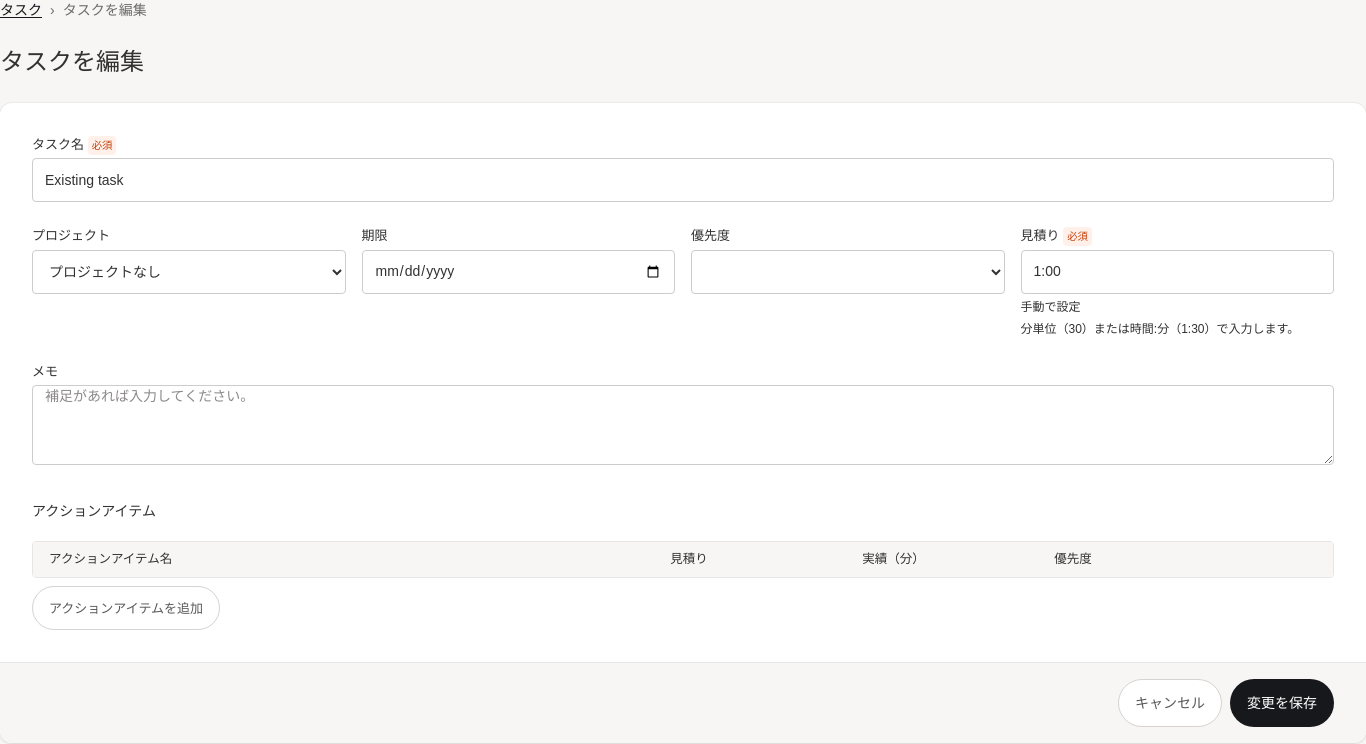
Scenario: reloads latest edit values and clears save feedback
Replace the text in the field labelled "タスク名 必須" with "Local draft". click: (683, 180)
box: top-left (32, 158), bottom-right (1334, 202)
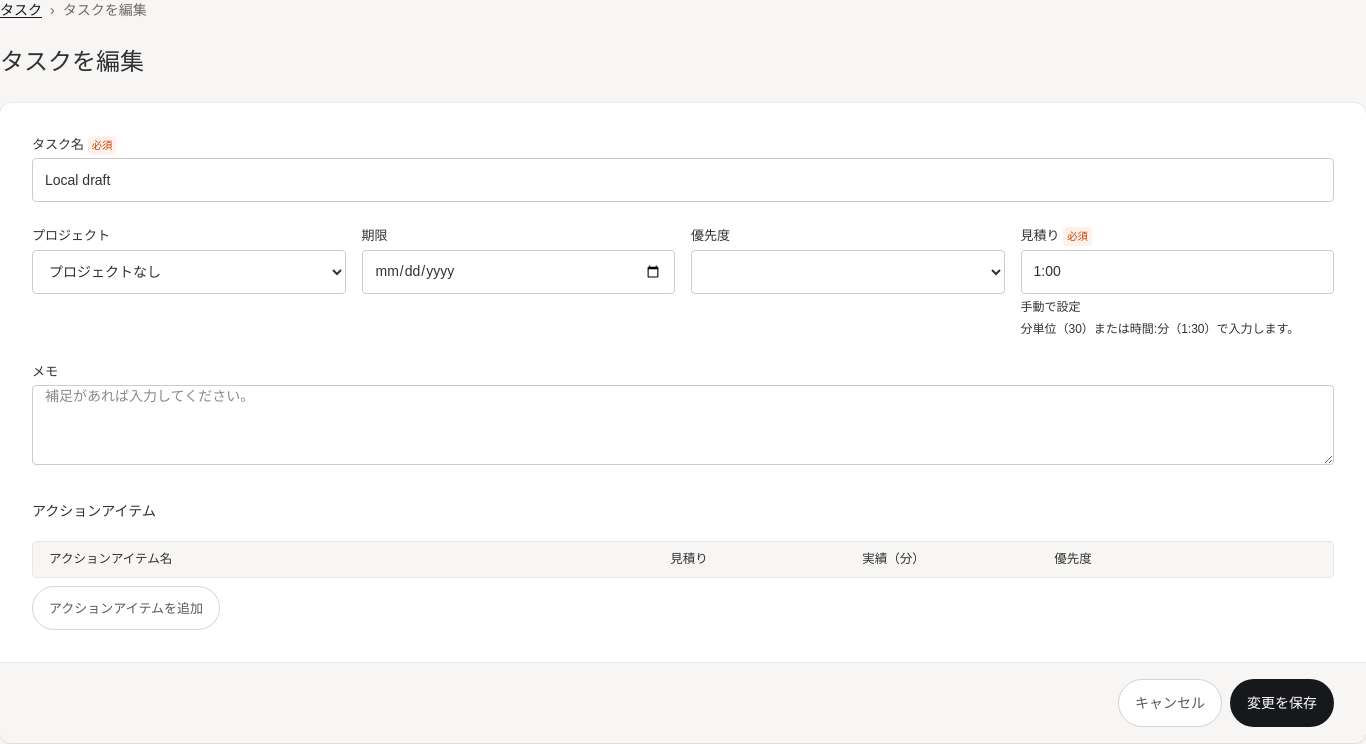
Click the button "変更を保存". click: (1282, 703)
box: top-left (1230, 679), bottom-right (1334, 727)
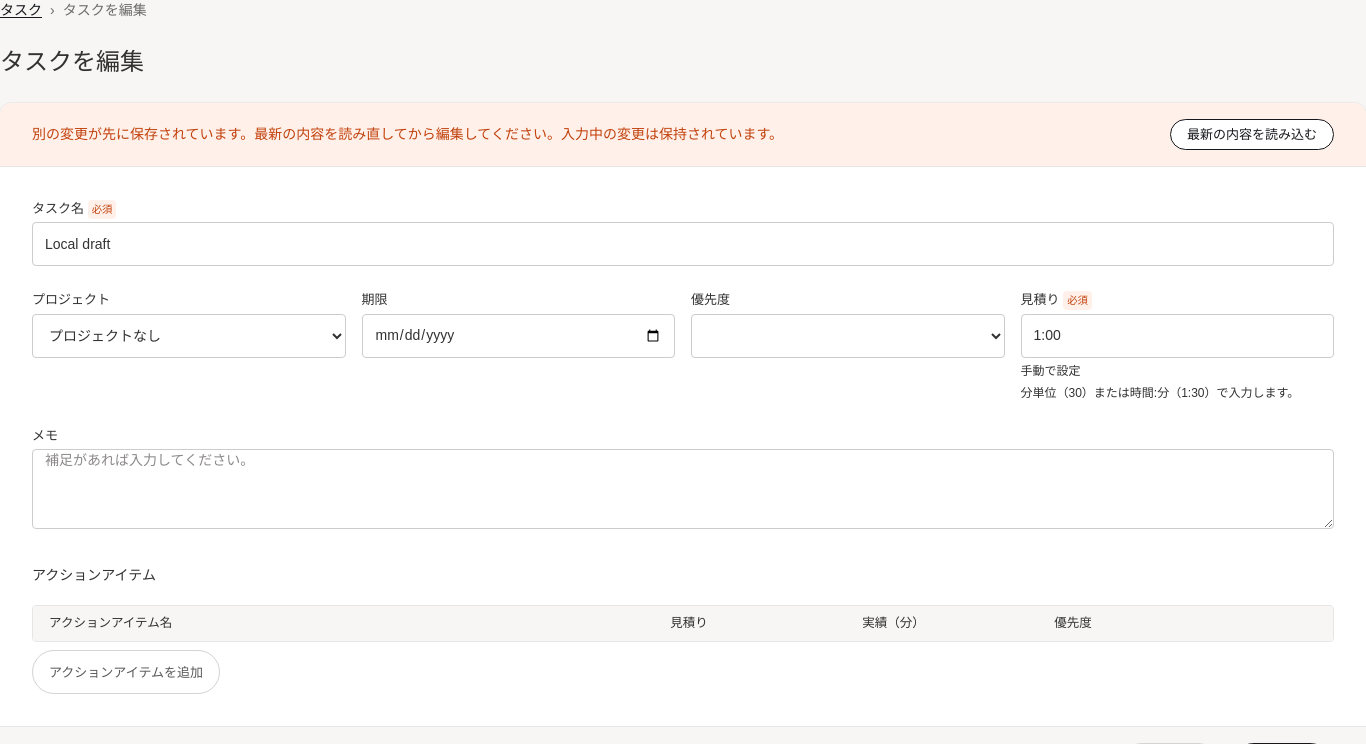
Click the button "最新の内容を読み込む". click: (1252, 134)
box: top-left (1170, 119), bottom-right (1334, 150)
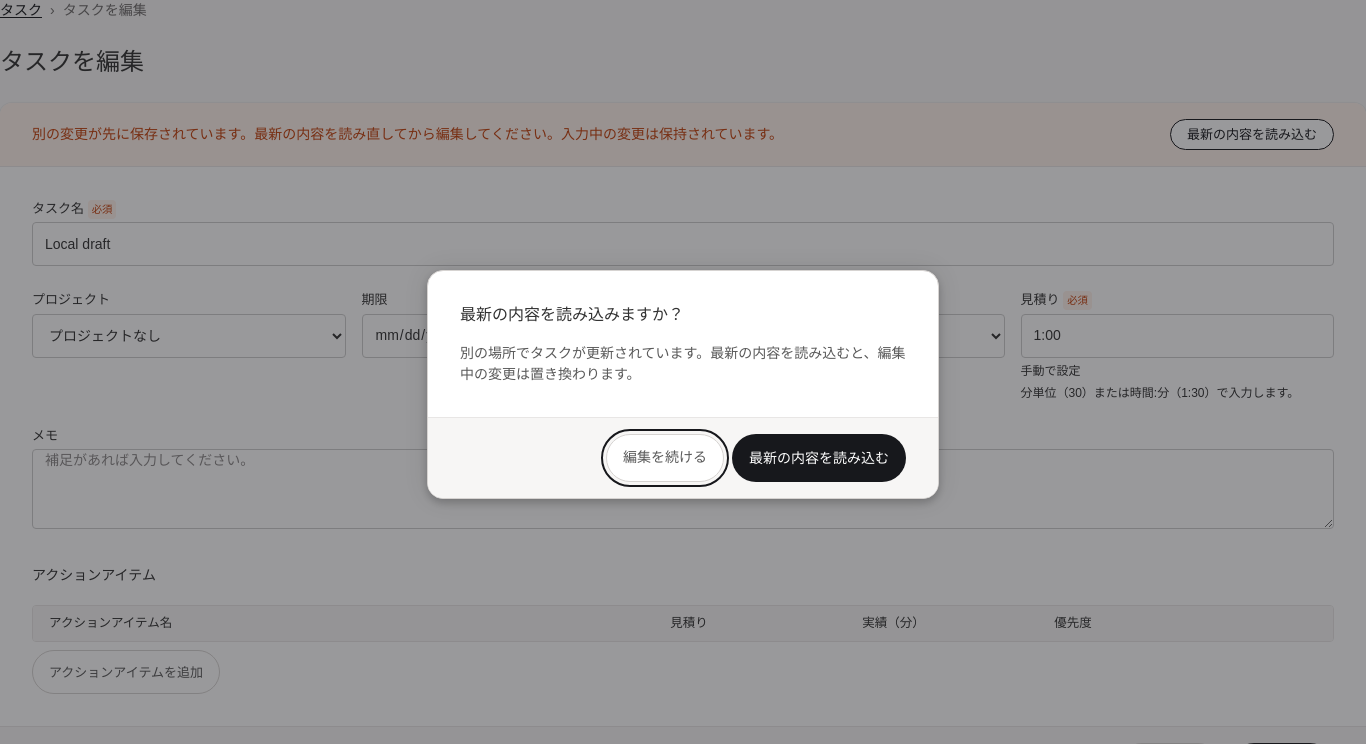
Click the button "最新の内容を読み込む". click: (819, 458)
box: top-left (732, 434), bottom-right (906, 482)
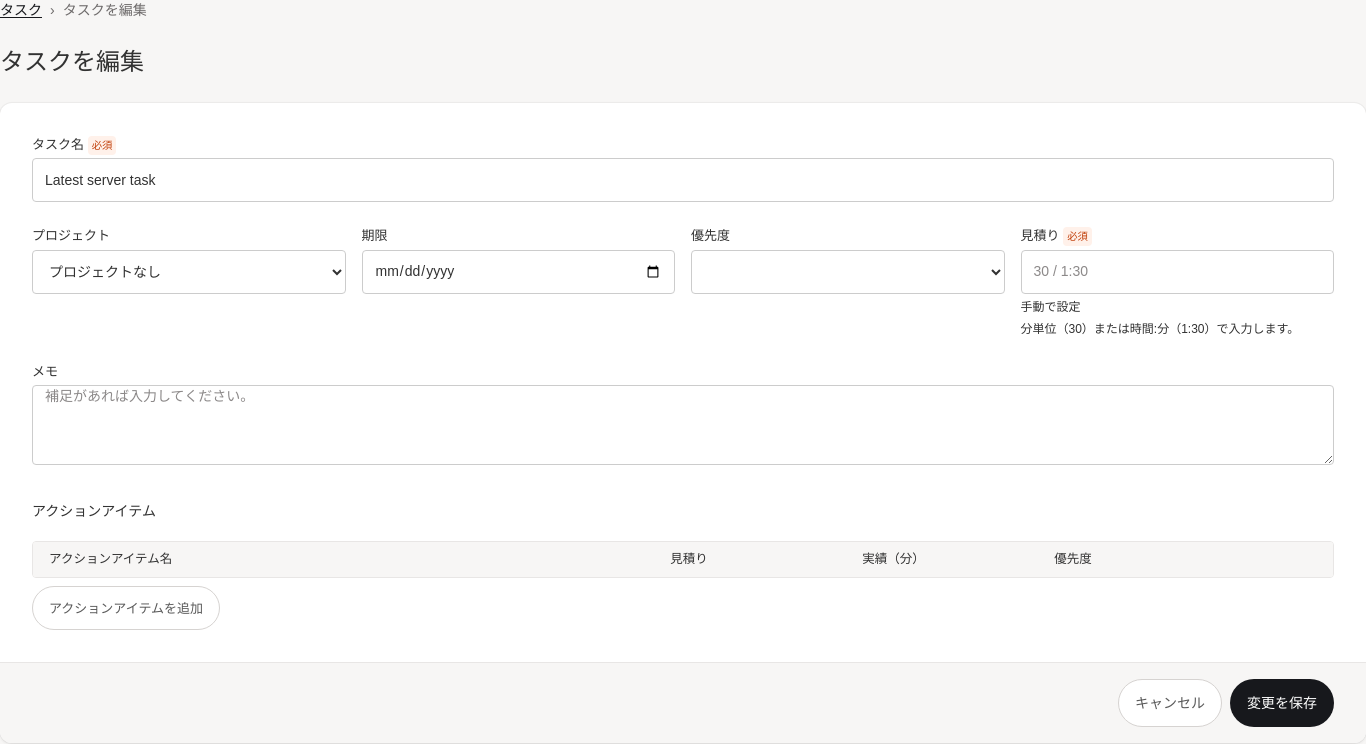
Check: the field labelled "タスク名 必須" holds "Latest server task", box top-left (32, 158), bottom-right (1334, 202)
